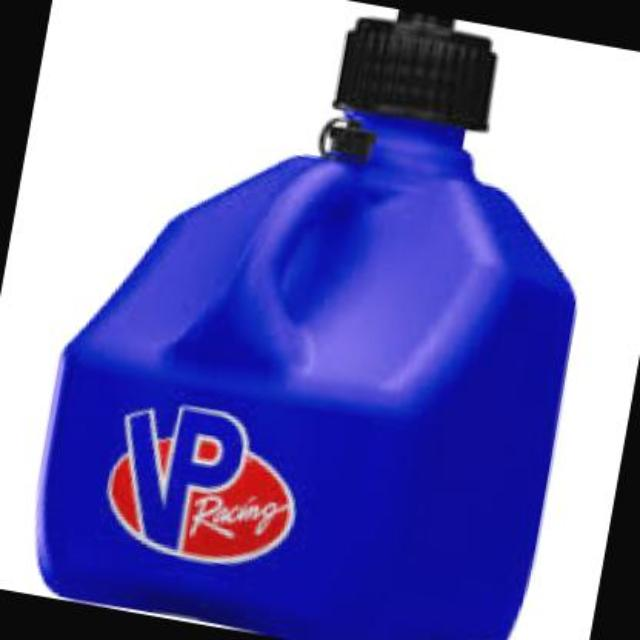chemical_plastic_gallon: (20, 0, 626, 638)
